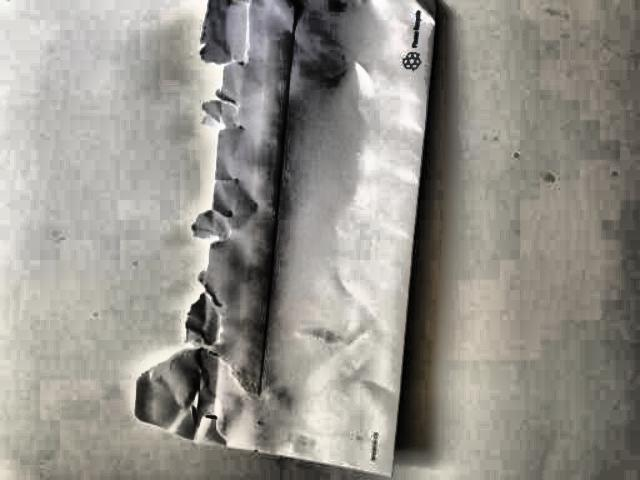Paper: (138, 0, 473, 480)
